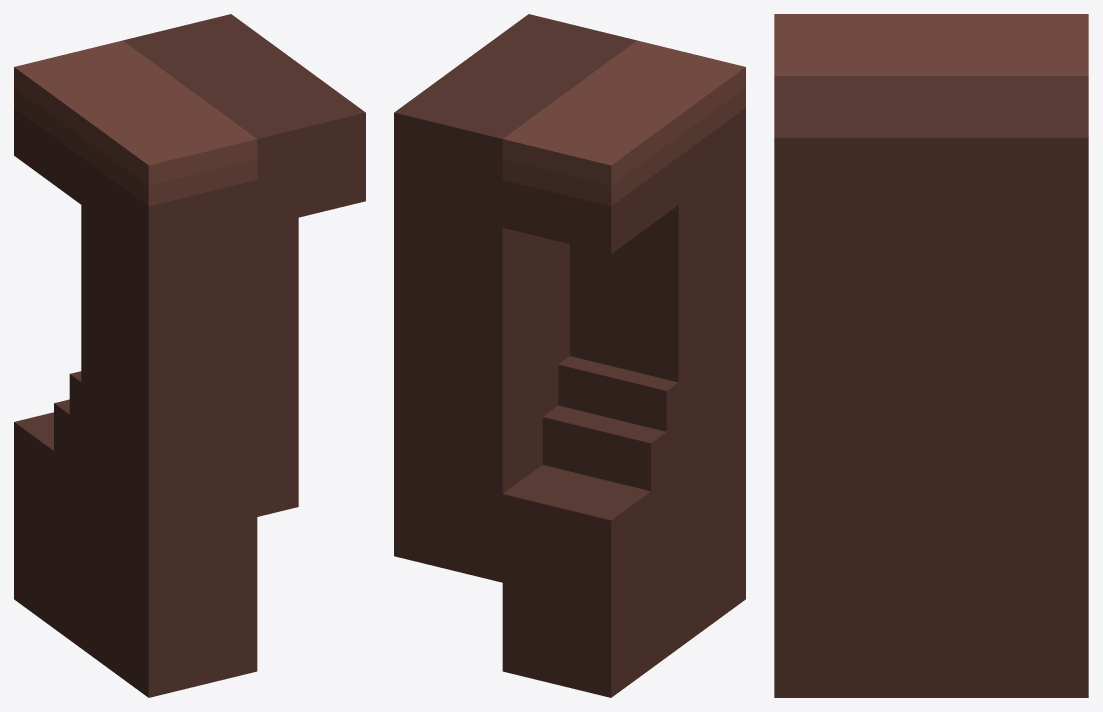
File: Fase_2_Parte_7S.fbx
3 views of the same model, side by side, from view 1: azimuth 30°, elevation 25°; view 2: azimuth 150°, elevation 25°; view 3: azimuth 270°, elevation 25° (orthographic). The views are drawn at different scales.
Visible parts, largest first — view 1: Plane.018, Plane.019, Plane.035, Plane.021, Plane.017, Plane.006, Plane.105, Plane.013, Plane.040, Plane.020, Plane.104, Plane.037 (+3 smaller); view 2: Plane.013, Plane.019, Plane.020, Plane.040, Plane.104, Plane.017, Plane.038, Plane.037, Plane.039, Plane.018, Plane.006, Plane.036 (+3 smaller); view 3: Plane.040, Plane.035, Plane.036, Plane.037, Plane.021, Plane.017, Plane.019, Plane.038, Plane.039, Plane.105, Plane.013, Plane.018 (+2 smaller).
Part boxes in pixels (x1,y1,x2,y2): Plane.018: [81, 90, 257, 253]; Plane.019: [54, 371, 257, 520]; Plane.035: [190, 63, 365, 227]; Plane.021: [81, 471, 257, 608]; Plane.017: [81, 294, 257, 431]; Plane.006: [81, 205, 257, 342]; Plane.105: [81, 560, 257, 697]; Plane.013: [14, 40, 189, 204]; Plane.040: [123, 14, 297, 89]; Plane.020: [14, 412, 81, 559]; Plane.104: [14, 511, 81, 647]; Plane.037: [257, 329, 298, 428]; Plane.013: [502, 90, 678, 253]; Plane.019: [542, 333, 745, 491]; Plane.020: [502, 465, 678, 608]; Plane.040: [394, 63, 569, 227]; Plane.104: [502, 560, 678, 697]; Plane.017: [570, 244, 745, 382]; Plane.038: [394, 267, 569, 404]; Plane.037: [394, 365, 558, 493]; Plane.039: [394, 201, 569, 316]; Plane.018: [570, 40, 745, 204]; Plane.006: [570, 156, 745, 293]; Plane.036: [394, 467, 502, 582]; Plane.040: [931, 76, 1088, 241]; Plane.035: [774, 76, 931, 241]; Plane.036: [931, 552, 1088, 656]; Plane.037: [931, 448, 1088, 552]; Plane.021: [774, 490, 931, 594]; Plane.017: [774, 283, 931, 386]; Plane.019: [774, 387, 931, 490]; Plane.038: [931, 345, 1088, 448]; Plane.039: [931, 241, 1088, 344]; Plane.105: [774, 594, 931, 697]; Plane.013: [931, 14, 1088, 75]; Plane.018: [774, 14, 931, 75].
Bounding box in the file's own units: 3440 × 8064 × 3696.
